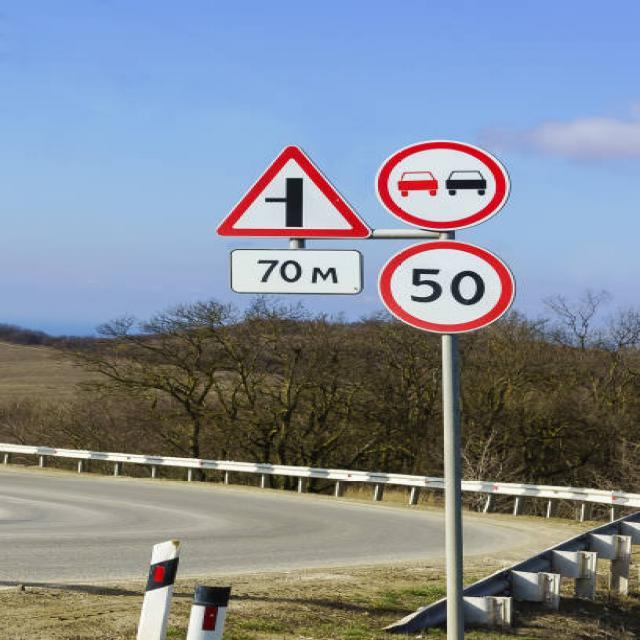no overtaking: (369, 137, 519, 234)
